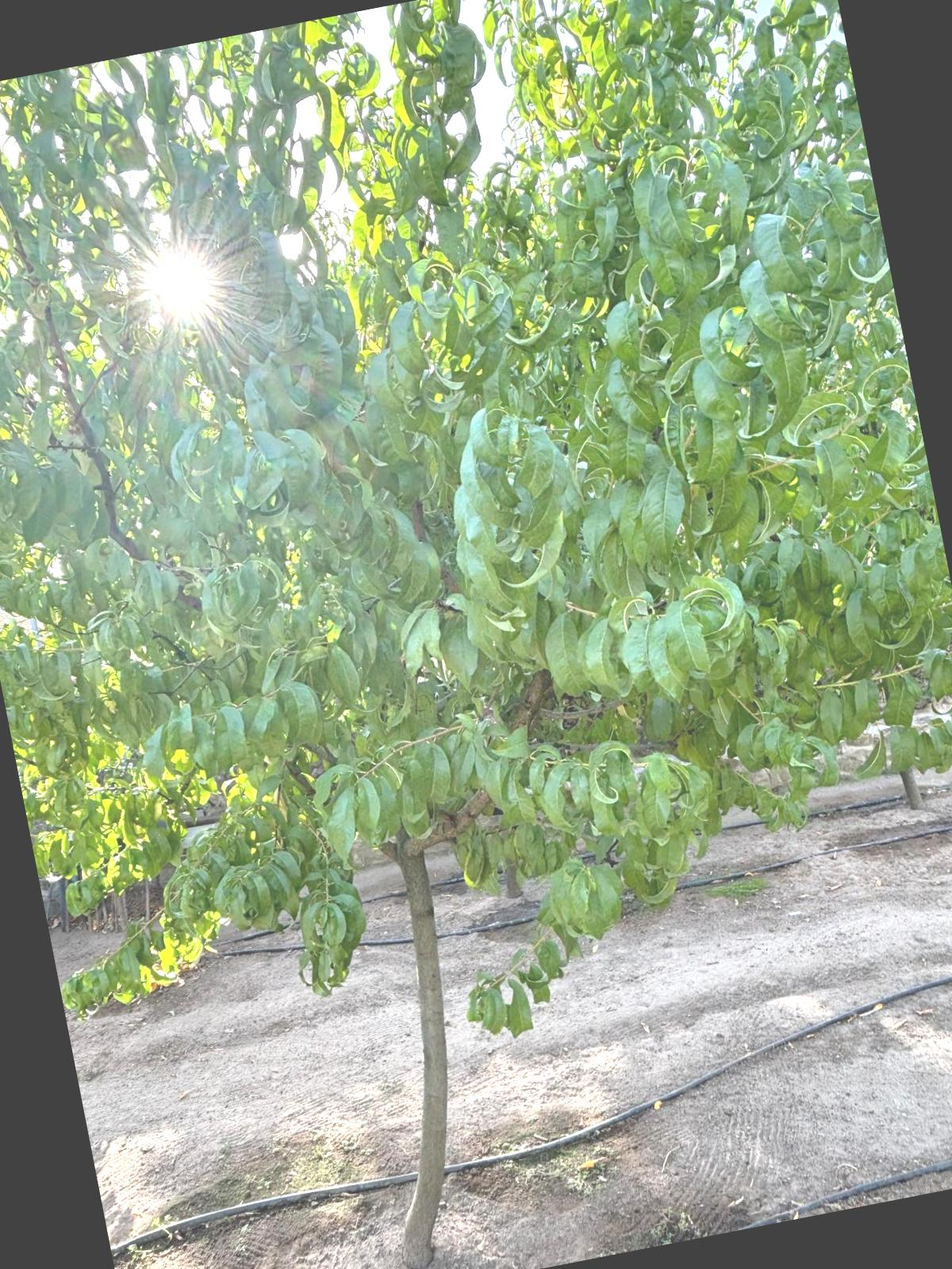melocotonero: (0, 61, 939, 1269)
